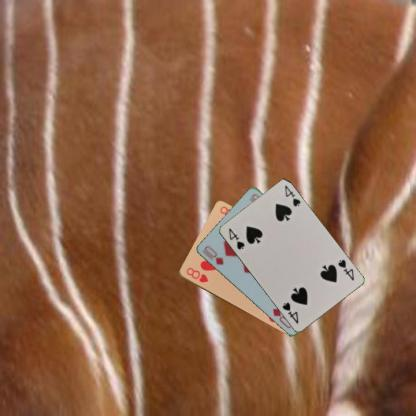10d: (199, 243, 225, 266)
4s: (335, 256, 355, 282), (226, 225, 245, 251)
8h: (184, 265, 209, 284)
